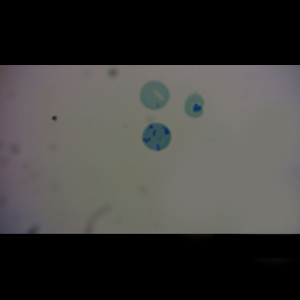aggregate reticulocyte: (141, 122, 173, 152)
erythrocyte: (184, 92, 207, 119)
punctate reticulocyte: (139, 80, 170, 111)
